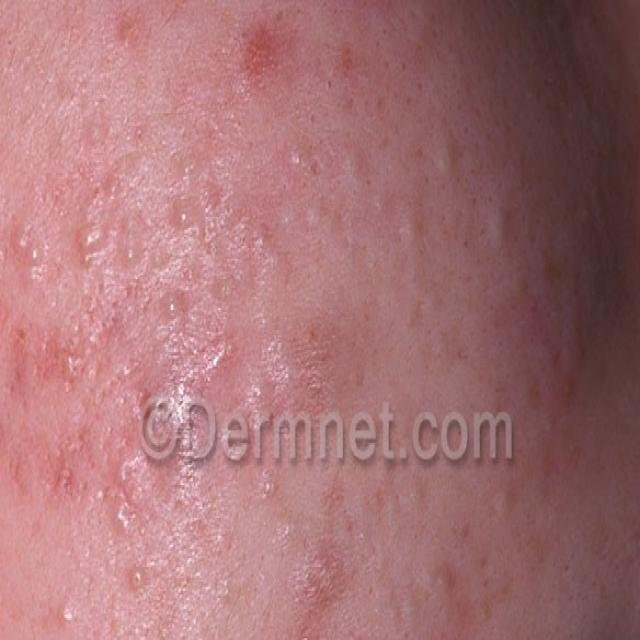Acne: (0, 138, 250, 394), (403, 94, 585, 363), (410, 470, 540, 640), (32, 532, 218, 640), (254, 498, 390, 640), (222, 0, 342, 121), (88, 0, 177, 132)
